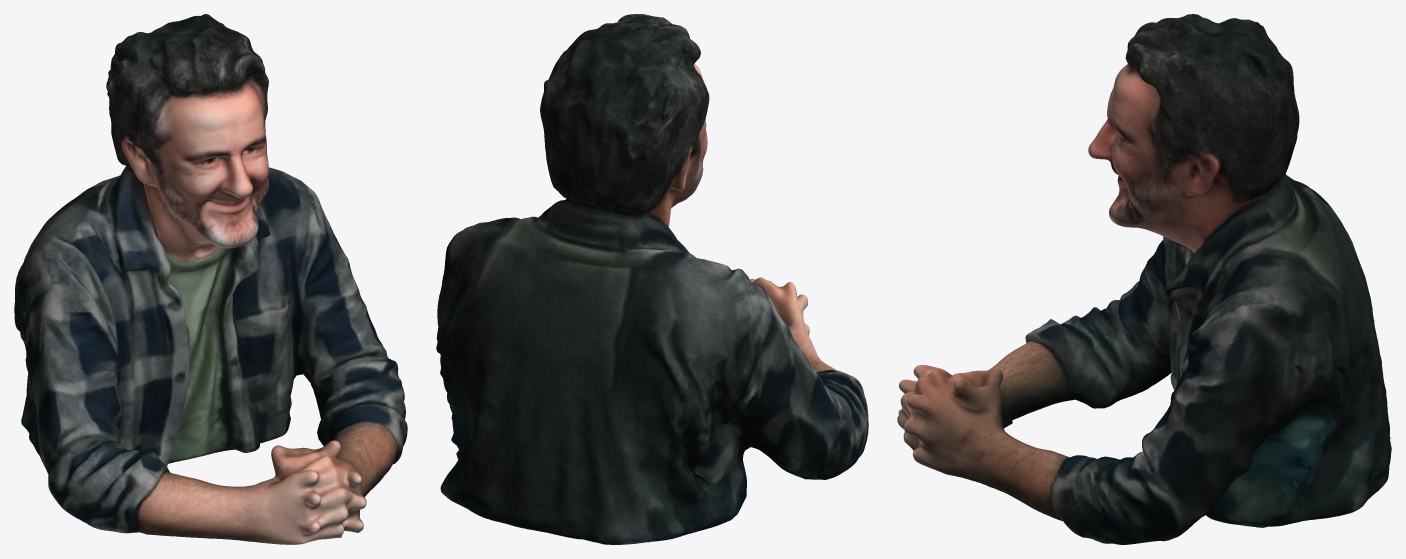
3 renders of one model, left to right at view 1: azimuth 30°, elevation 25°; view 2: azimuth 150°, elevation 25°; view 3: azimuth 270°, elevation 25°, orthographic. The views are drawn at different scales.
Parts seen in each view (by area): view 1: world; view 2: world; view 3: world.
Boxes of the visible parts, x1,y1,x2,y2 form: world: (14,14,407,544); world: (436,14,868,544); world: (897,14,1391,544).
Size of the model in its own units: 0.8713 by 1 by 0.9986.
Materials: 1 (1 with a texture image).
